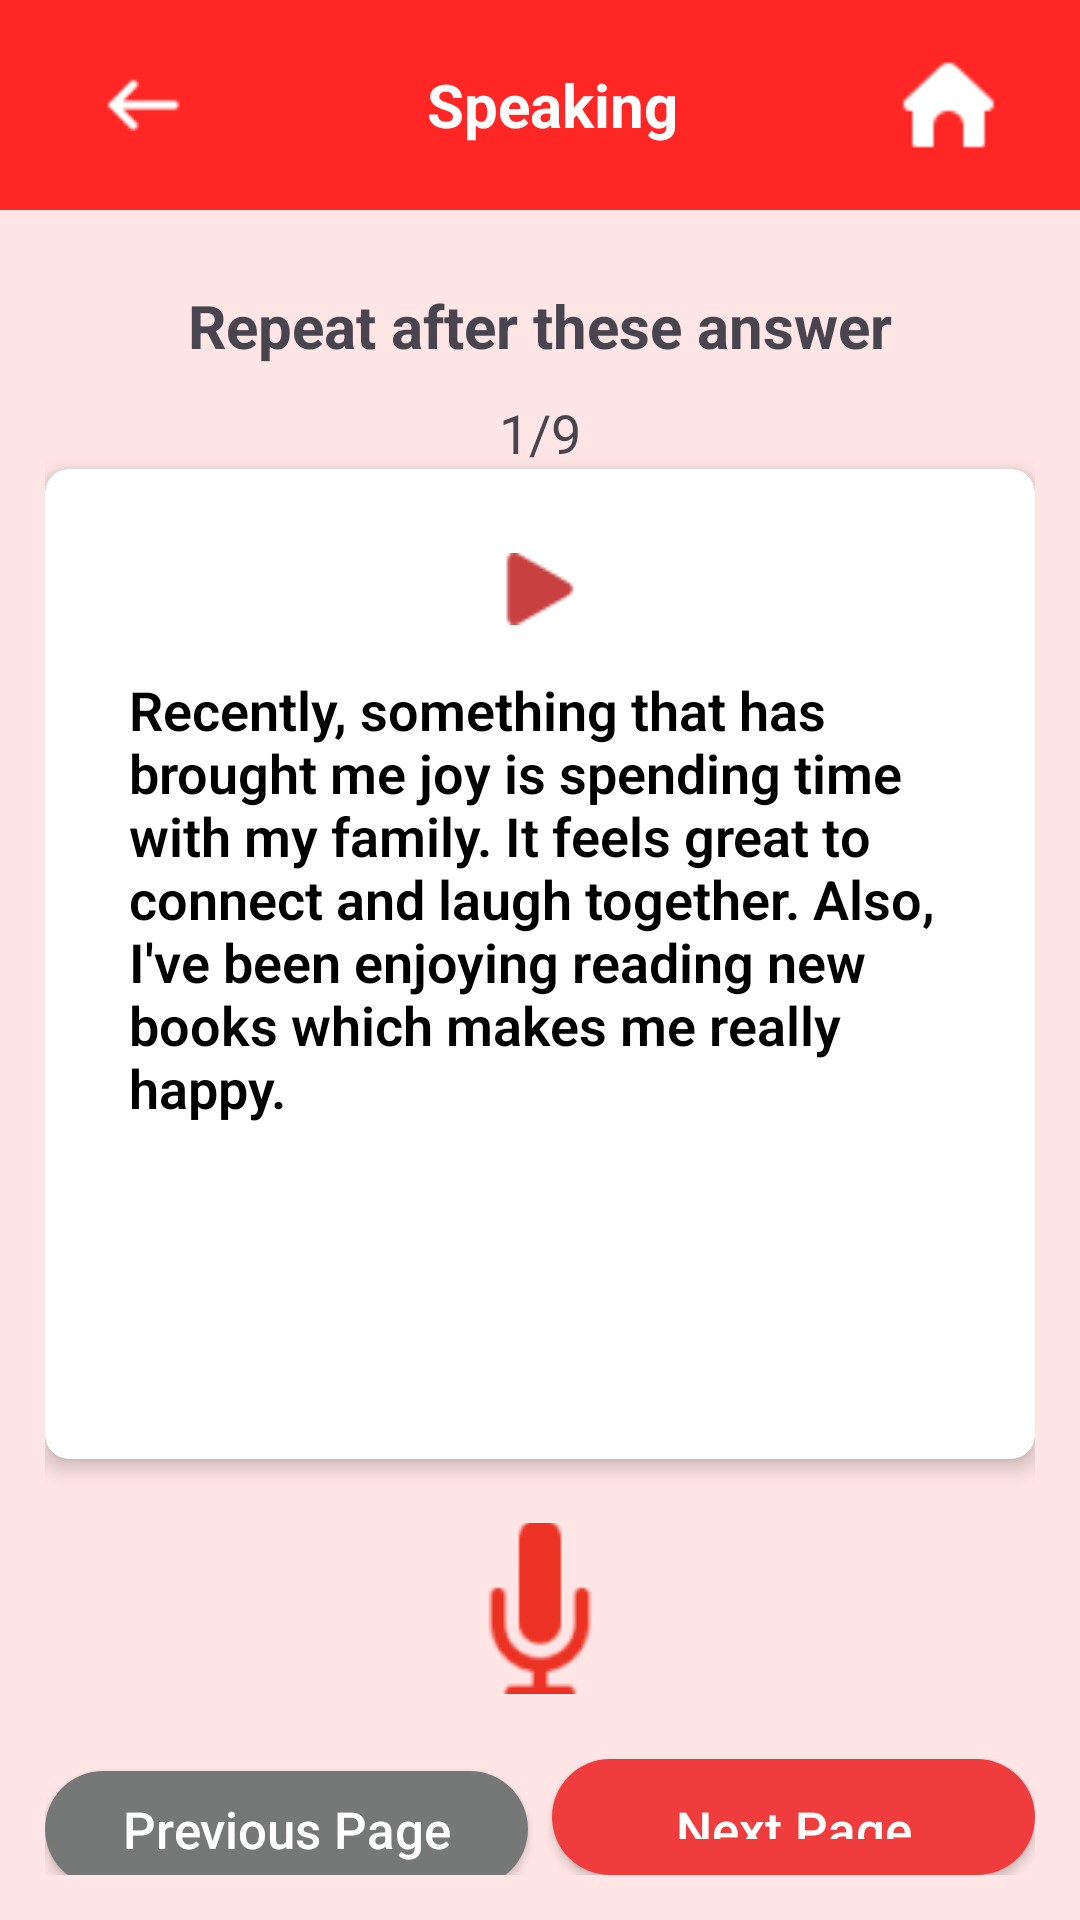

Icon bounding boxes for this 1080×1920 phone screenshot, format (x1, y1, x2, y2):
backward: (107, 79, 180, 131)
Ghi âm: (488, 1523, 592, 1694)
home: (902, 62, 995, 148)
Play Script: (506, 553, 574, 625)
